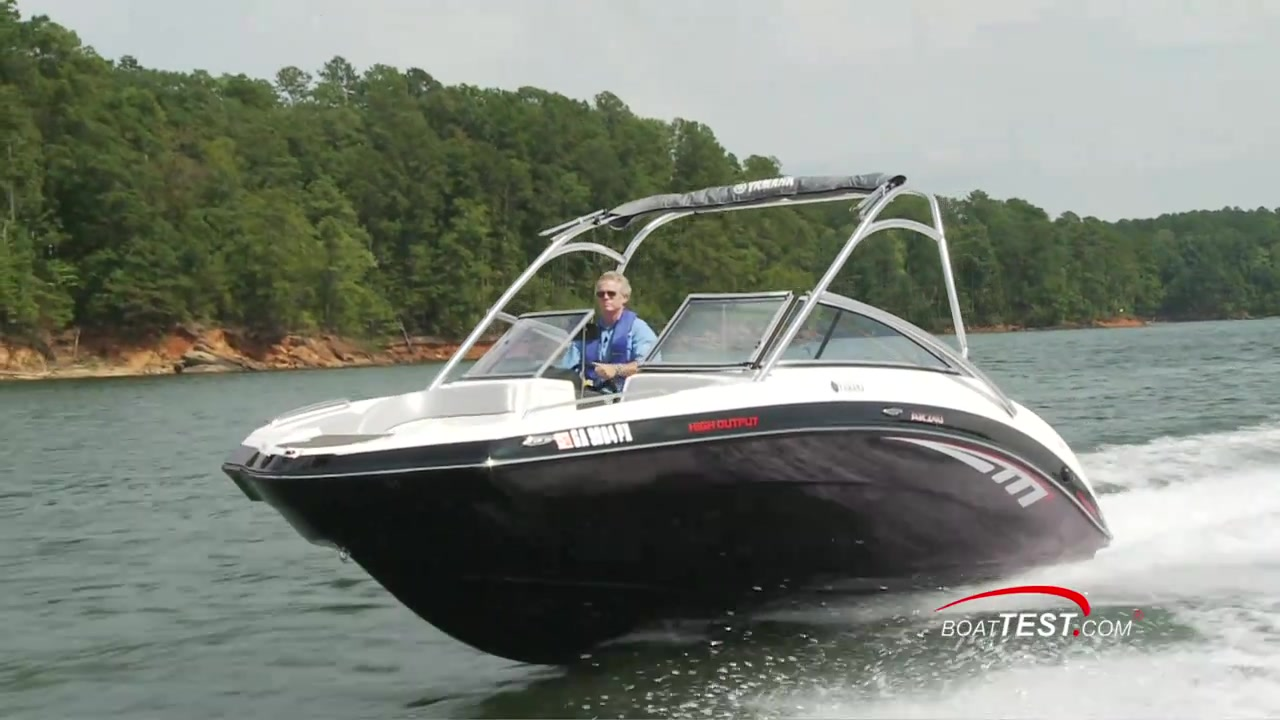boat: (220, 162, 1116, 681)
